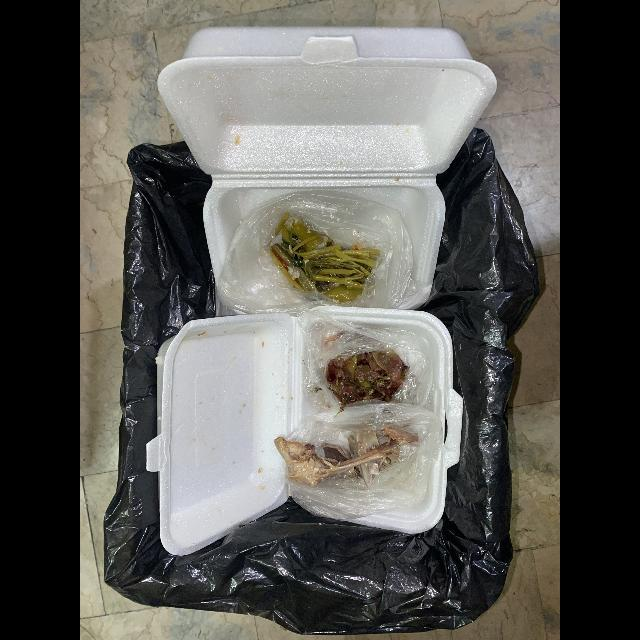biowaste: (269, 212, 380, 304), (273, 427, 419, 486), (325, 349, 410, 411)
plastic: (219, 190, 421, 315), (274, 403, 443, 520), (297, 317, 432, 413)
styrofoam: (156, 27, 497, 319), (145, 306, 463, 559)
